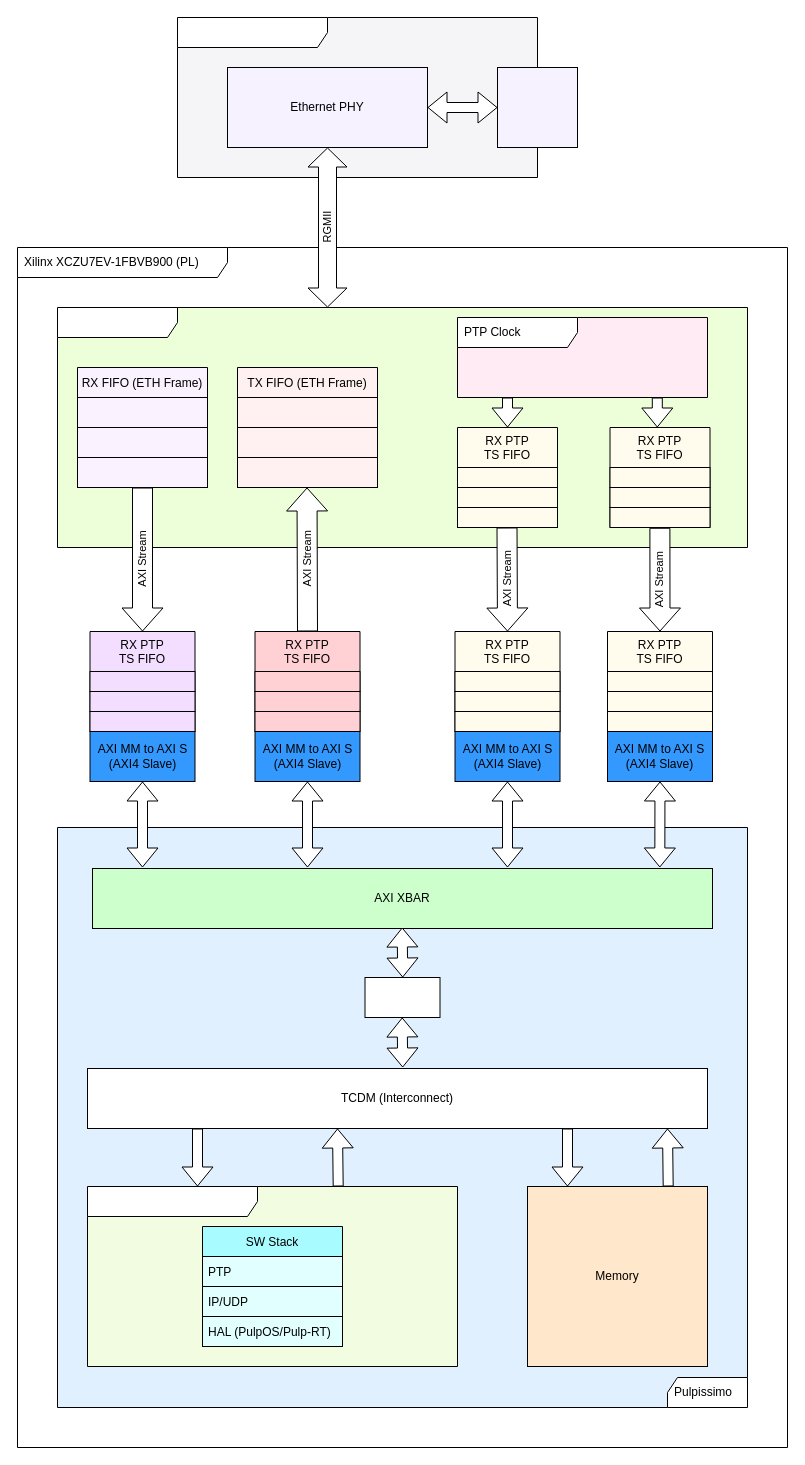
Image size: 805x1465. Some labels were removed from this diagram. The box of each missing label's shape, as (x1, y1, x2, y2) in pixels:
AVNET Network FMC: (176, 16, 538, 178)
Ethernet MAC: (56, 306, 748, 548)
RISC-V Core (CV32E40P): (86, 1186, 458, 1366)
RJ-45: (496, 66, 578, 148)
TCDM to AXI4: (364, 976, 440, 1018)
